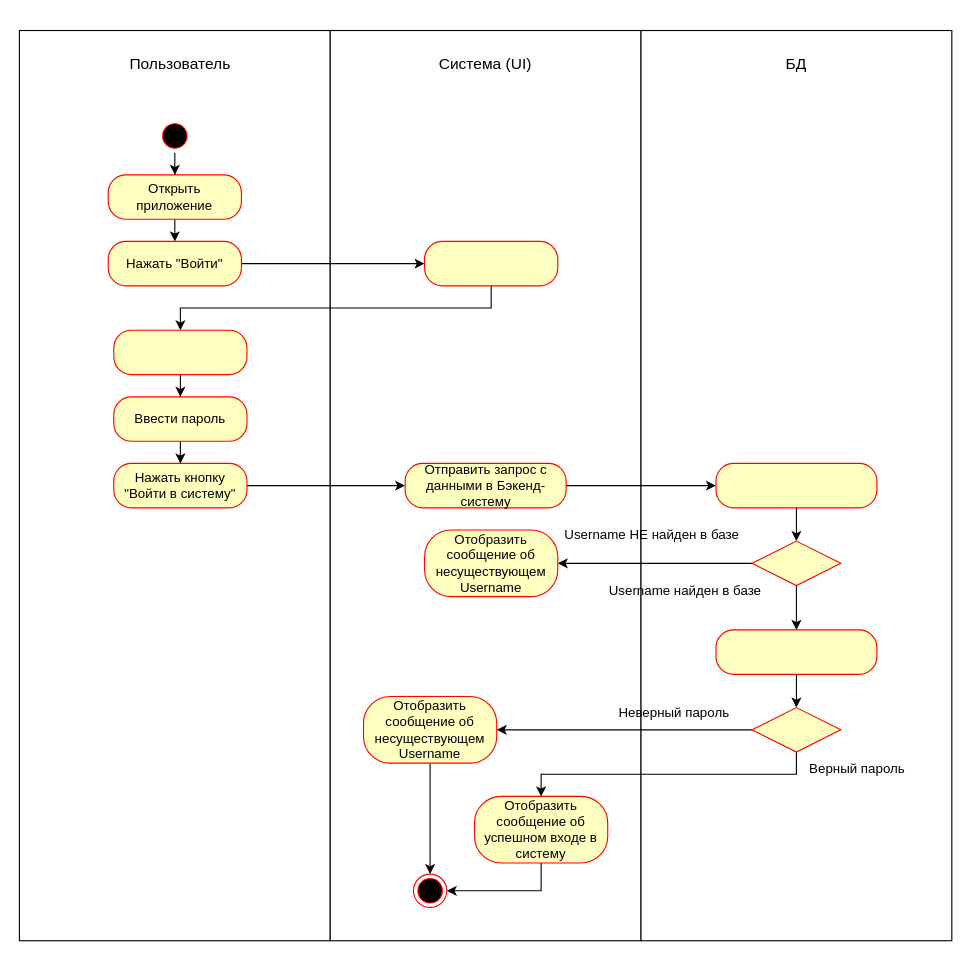
The diagram is 971 pixels wide and 960 high, and some of its shapes have lost their labels. Here are the shapes that lost their labels. From the top down, the centre of each, then its label:
At pixel 490 263: "Отобразить окно ввода данных".
At pixel 180 352: "Ввести логин (Username)".
At pixel 796 485: "Поиск логина в системе".
At pixel 796 651: "Проверка соответствия пароля".
